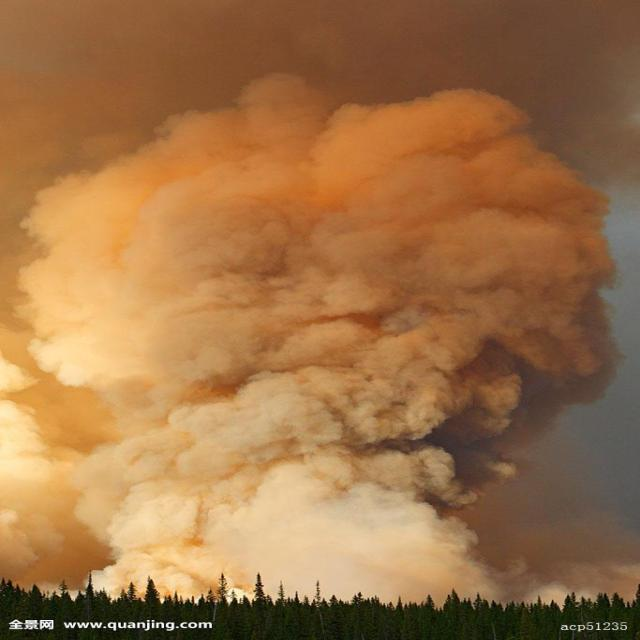smoke: (17, 70, 617, 598)
